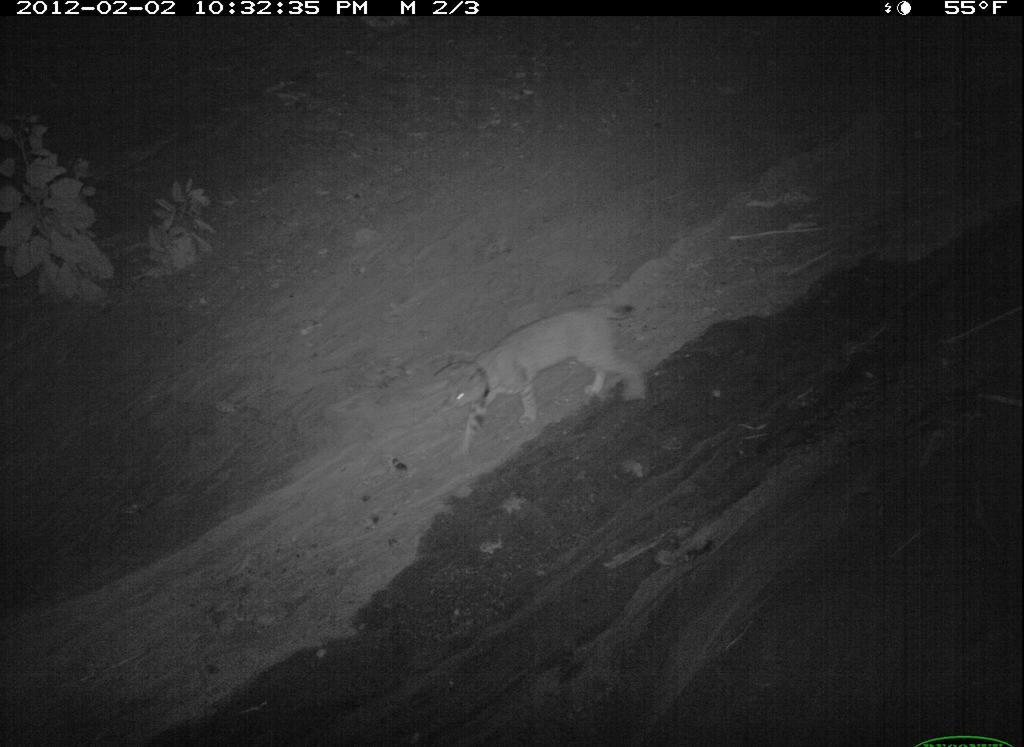bobcat: (881, 587, 1024, 747)
